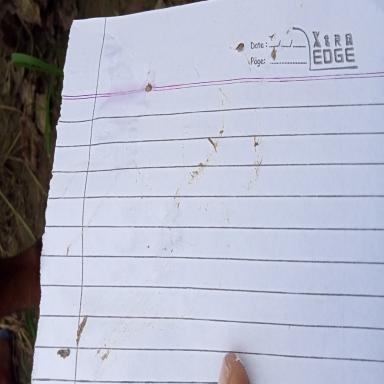pbw: (57, 348, 70, 358)
